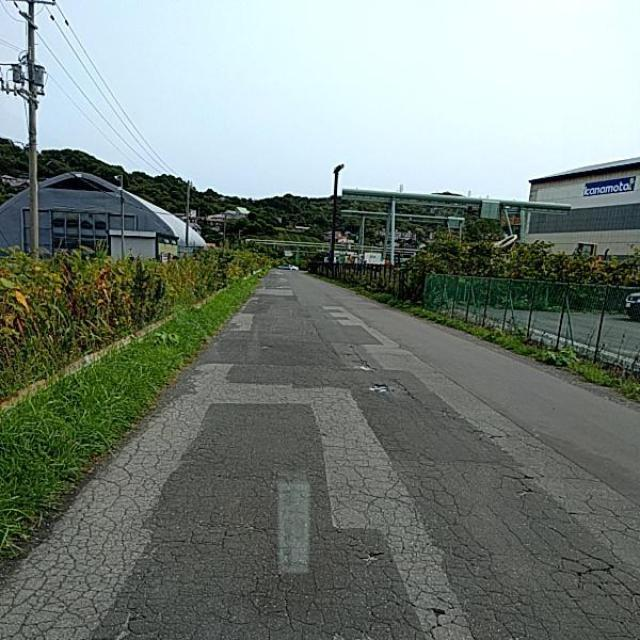Sambungan: (84, 401, 428, 640), (352, 372, 640, 640)
